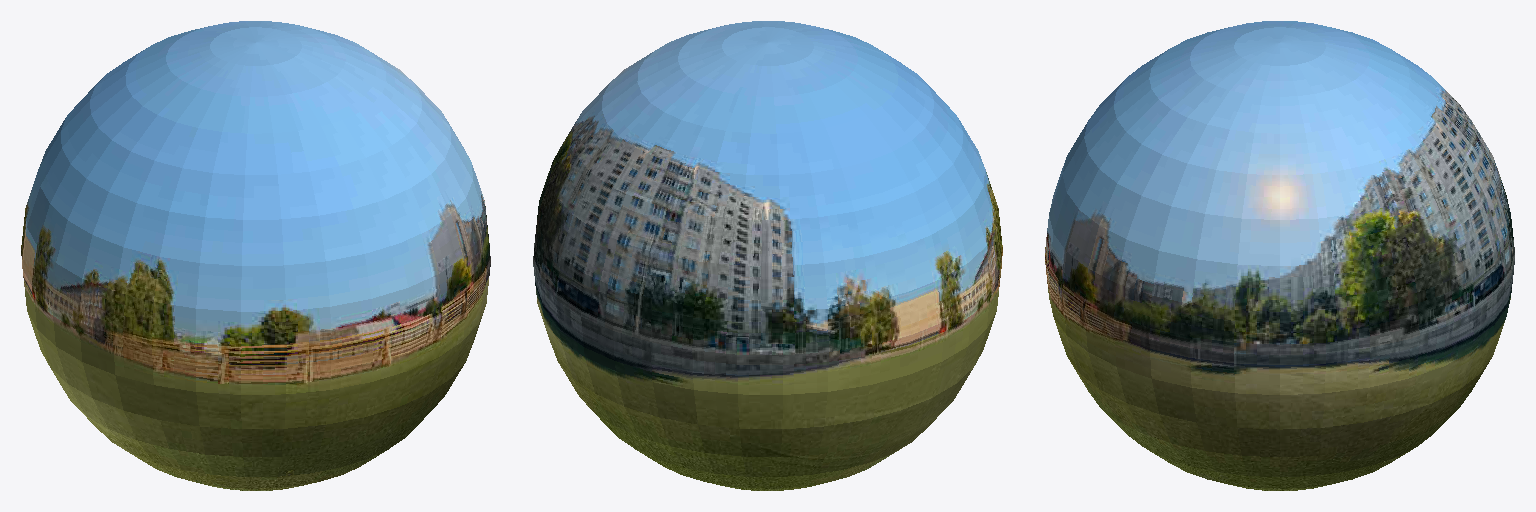
The picture shows the model from 3 angles: view 1: azimuth 30°, elevation 25°; view 2: azimuth 150°, elevation 25°; view 3: azimuth 270°, elevation 25°; orthographic projection.
Visible parts, largest first — view 1: Sphere; view 2: Sphere; view 3: Sphere.
Part boxes in pixels (bbox=[...]): Sphere: bbox=[21, 21, 490, 490]; Sphere: bbox=[533, 21, 1002, 490]; Sphere: bbox=[1045, 21, 1514, 490].
Bounding box in the file's own units: 2 × 2 × 2.
1 materials, 1 textured.